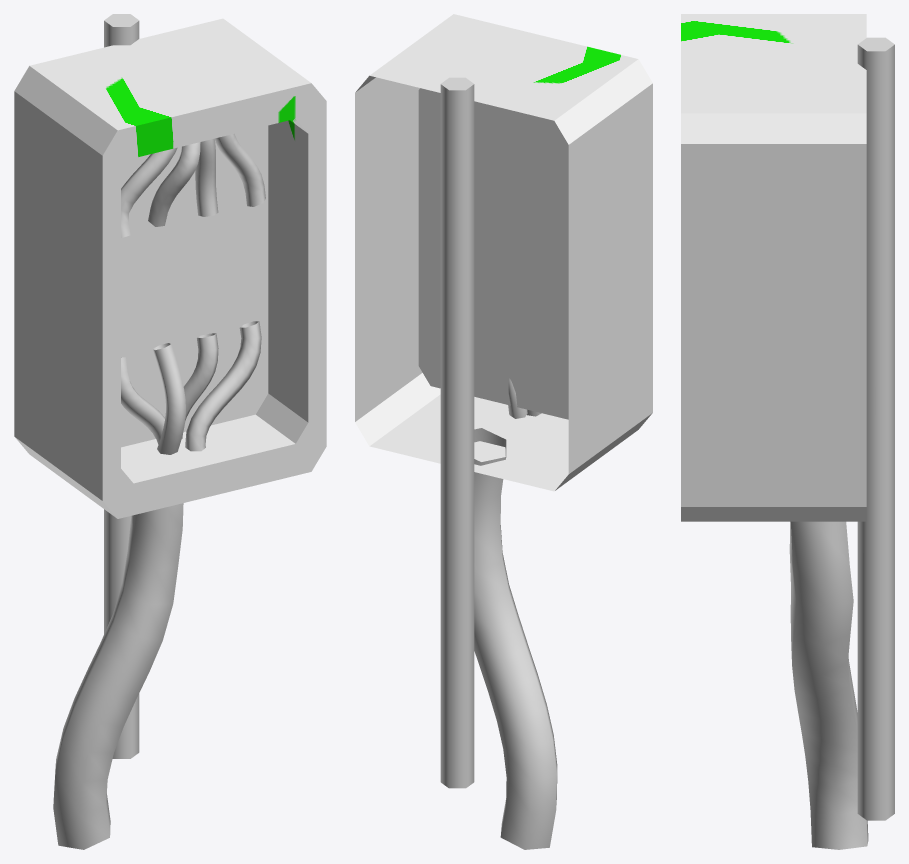
File: OnlyBasE.fbx
3 renders of one model, left to right at view 1: azimuth 30°, elevation 25°; view 2: azimuth 150°, elevation 25°; view 3: azimuth 270°, elevation 25°, orthographic. The views are drawn at different scales.
Visible parts, largest first — view 1: Caja.001, Tubos1, Poste; view 2: Caja.001, Poste, Tubos1; view 3: Caja.001, Poste, Tubos1.
Boxes of the visible parts, x1,y1,x2,y2 form: Caja.001: [14, 18, 326, 518]; Tubos1: [53, 133, 265, 849]; Poste: [104, 14, 139, 758]; Caja.001: [355, 14, 652, 491]; Poste: [440, 77, 474, 788]; Tubos1: [474, 378, 557, 849]; Caja.001: [681, 14, 866, 521]; Poste: [857, 37, 894, 820]; Tubos1: [789, 521, 868, 849].
Bounding box in the file's own units: 0.4486 × 1.52 × 0.353.
